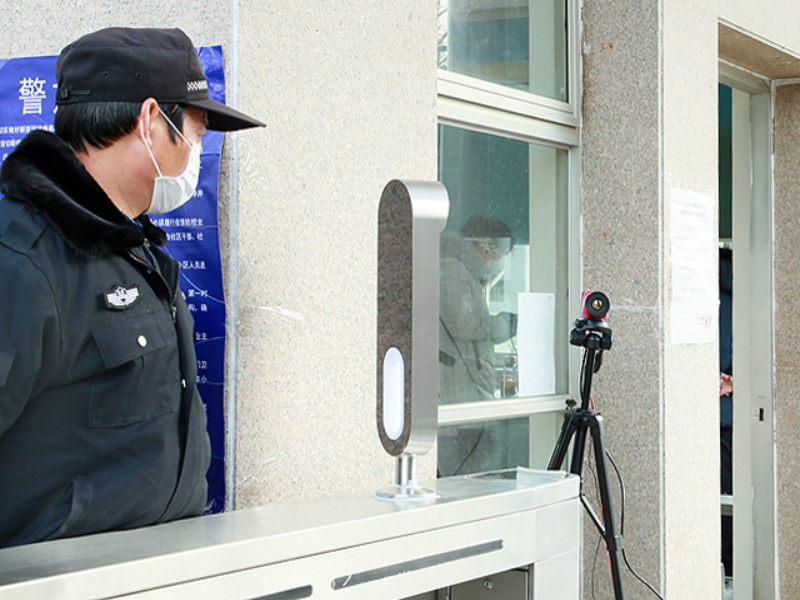ManaoArotava: (107, 30, 224, 243)
